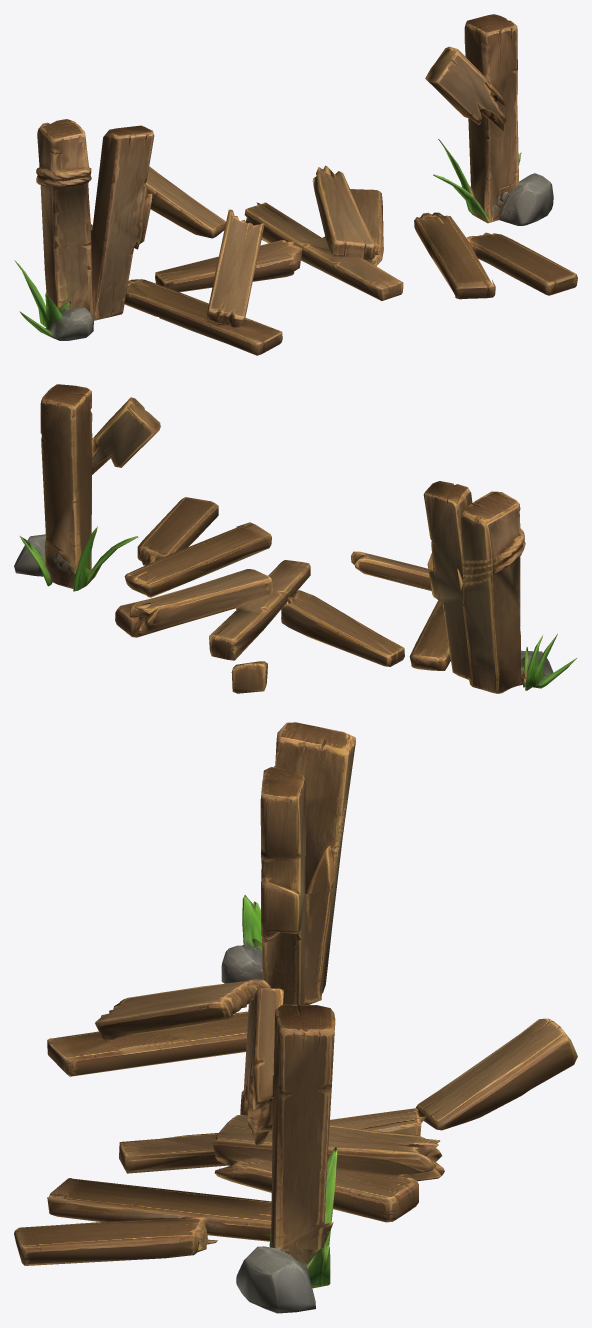
Rendered from Meshy_AI_Broken_Fence_0501073056_texture.fbx.
The picture shows the model from 3 angles, top to bottom: view 1: azimuth 30°, elevation 25°; view 2: azimuth 150°, elevation 25°; view 3: azimuth 270°, elevation 25°; orthographic projection. The views are drawn at different scales.
Visible parts, largest first — view 1: Mesh_0; view 2: Mesh_0; view 3: Mesh_0.
Boxes of the visible parts, left/top/right/bottom form: Mesh_0: left=14, top=14, right=577, bottom=355; Mesh_0: left=14, top=384, right=576, bottom=693; Mesh_0: left=14, top=722, right=577, bottom=1313.
Bounding box in the file's own units: 191 × 63.43 × 123.
Materials: 1 (1 with a texture image).
